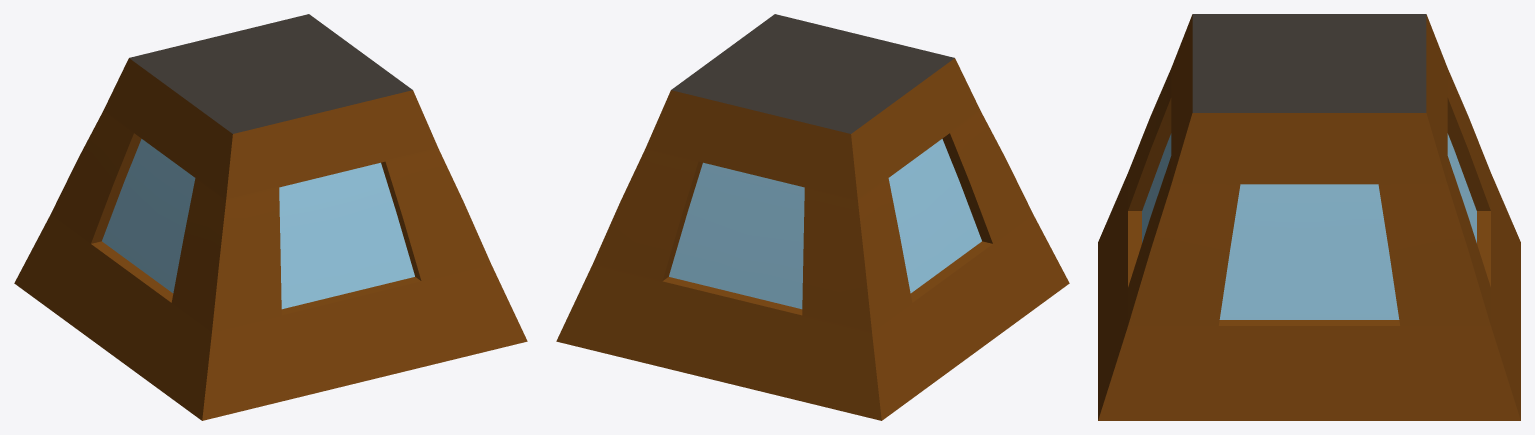
The model's file is lowTowerTop.fbx.
The picture shows the model from 3 angles, left to right: view 1: azimuth 30°, elevation 25°; view 2: azimuth 150°, elevation 25°; view 3: azimuth 270°, elevation 25°; orthographic projection. The views are drawn at different scales.
Visible parts, largest first — view 1: pCube1; view 2: pCube1; view 3: pCube1.
Boxes of the visible parts, bbox=[...] form: pCube1: bbox=[14, 14, 527, 420]; pCube1: bbox=[556, 14, 1069, 420]; pCube1: bbox=[1098, 14, 1520, 420].
Size of the model in its own units: 14.98 by 10.49 by 14.98.
1 material, 1 textured.
